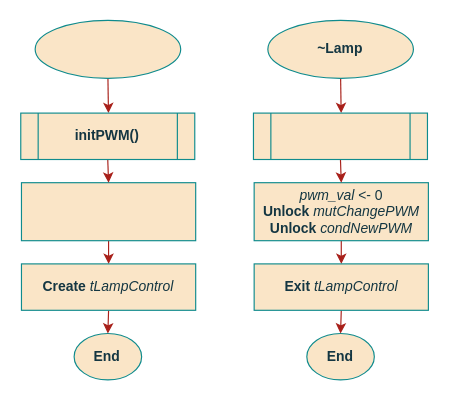
Image size: 449x400. Some labels were removed from this diagram. The box of each missing label's shape, as (x1, y1, x2, y2) in pixels:
killPWM(): (252, 112, 427, 160)
Lamp: (34, 19, 181, 78)
pwm_val <- 0 Init mutChangePWM Init condNewPWM: (20, 182, 196, 241)
